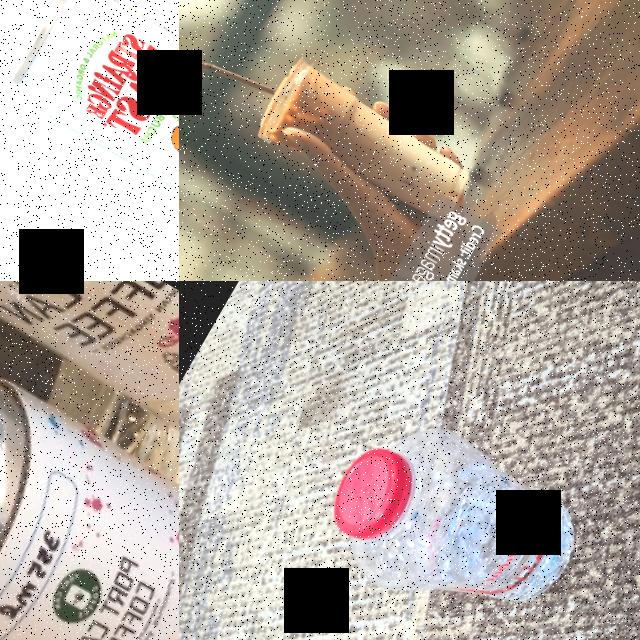bottle: (304, 387, 607, 640)
can: (0, 302, 179, 640), (2, 0, 179, 281), (0, 281, 179, 544)
cup: (251, 54, 484, 240)
